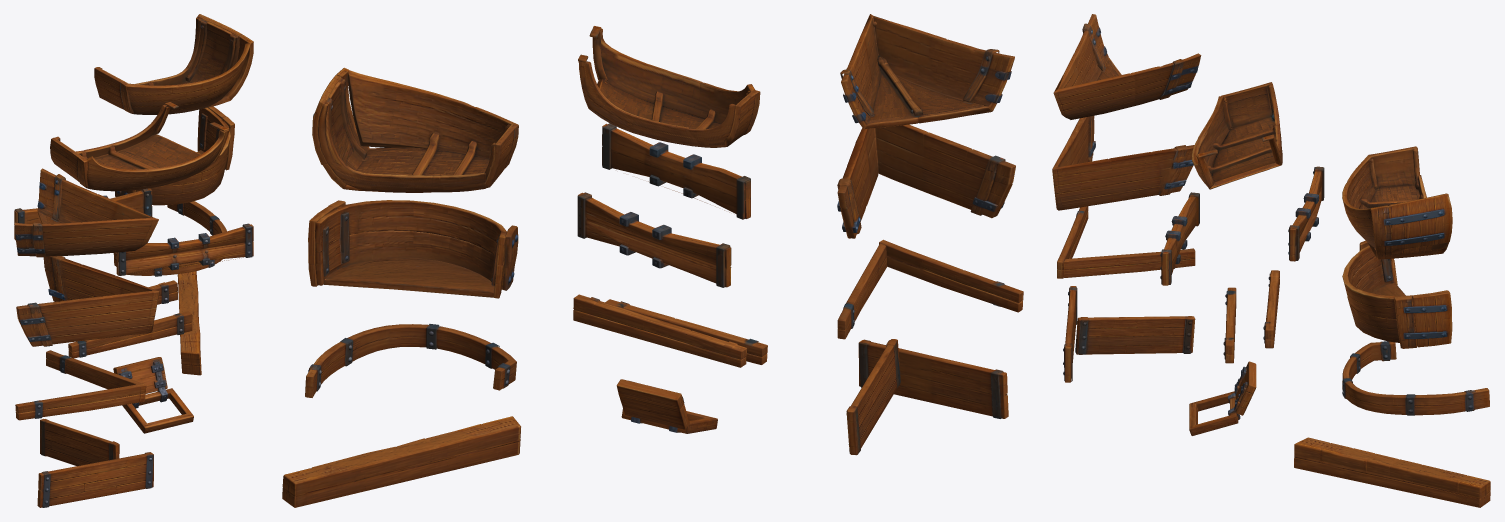
The model's file is hull.glb.
The picture shows the model from 3 angles, left to right: view 1: azimuth 30°, elevation 25°; view 2: azimuth 150°, elevation 25°; view 3: azimuth 270°, elevation 25°; orthographic projection. The views are drawn at different scales.
Parts seen in each view (by area): view 1: e3f4cc18_b017_4b8b_a4a5_67a3df16e559; view 2: e3f4cc18_b017_4b8b_a4a5_67a3df16e559; view 3: e3f4cc18_b017_4b8b_a4a5_67a3df16e559.
Boxes of the visible parts, x1,y1,x2,y2 form: e3f4cc18_b017_4b8b_a4a5_67a3df16e559: (14,14,253,507); e3f4cc18_b017_4b8b_a4a5_67a3df16e559: (282,14,1023,507); e3f4cc18_b017_4b8b_a4a5_67a3df16e559: (1052,14,1490,507).
Size of the model in its own units: 0.9995 by 0.7485 by 0.9565.
Materials: 1 (1 with a texture image).
